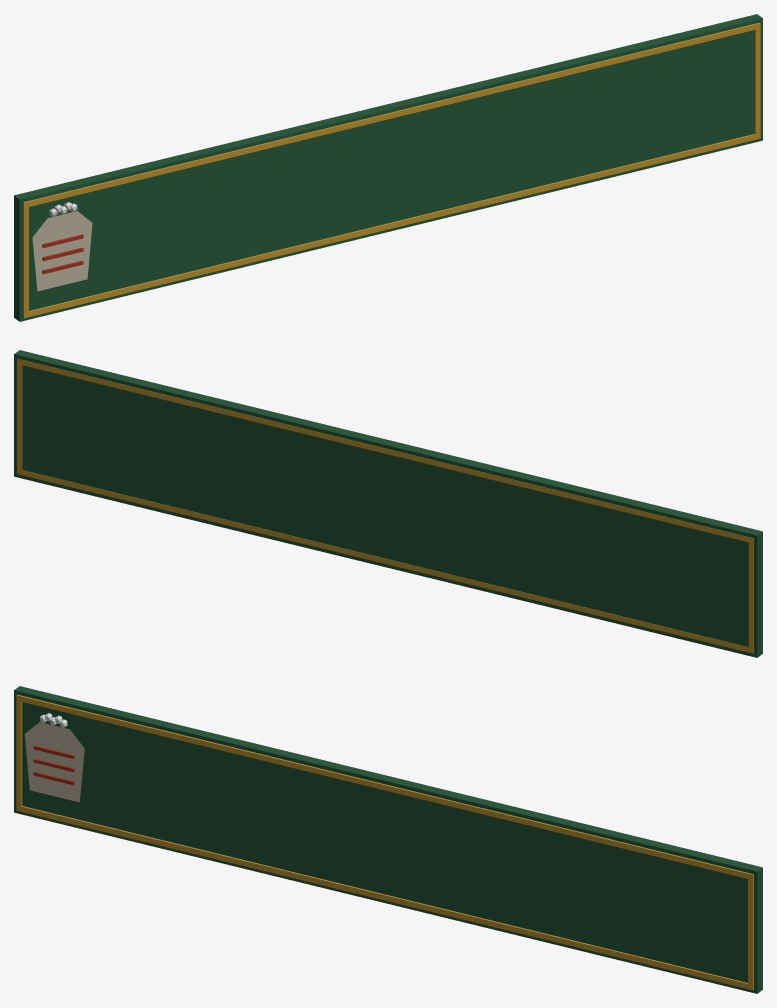
File: bang_tap_hoa_thu_ha_48.glb
The picture shows the model from 3 angles, top to bottom: view 1: azimuth 30°, elevation 25°; view 2: azimuth 150°, elevation 25°; view 3: azimuth 330°, elevation 25°; orthographic projection.
Visible parts, largest first — view 1: bang_tap_hoa_thu_ha_48; view 2: bang_tap_hoa_thu_ha_48; view 3: bang_tap_hoa_thu_ha_48.
Part boxes in pixels (x1,y1,x2,y2): bang_tap_hoa_thu_ha_48: (14, 14, 762, 321); bang_tap_hoa_thu_ha_48: (14, 350, 762, 657); bang_tap_hoa_thu_ha_48: (14, 686, 762, 993).
Size of the model in its own units: 4.45 by 0.7 by 0.1024.
